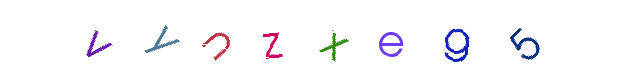5: (446, 0, 526, 80)
E: (294, 0, 374, 80)
G: (333, 0, 413, 80)
N: (222, 0, 302, 80)
V: (56, 0, 136, 80)
X: (279, 0, 359, 80)
Y: (206, 0, 286, 80)
Z: (261, 0, 341, 80)
